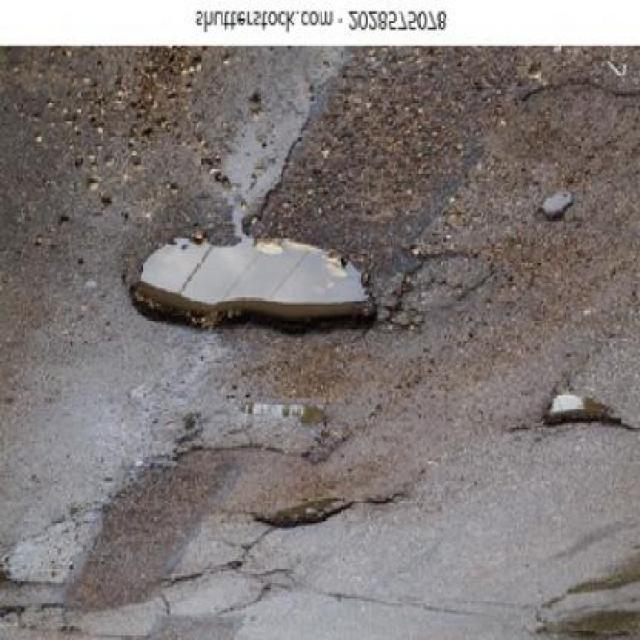Pothole: (0, 398, 463, 620), (117, 227, 380, 340)
